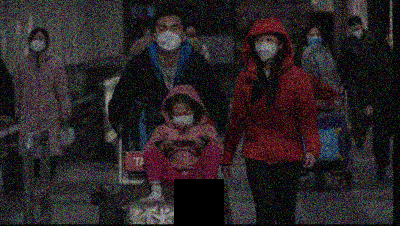with_mask: (155, 22, 185, 52), (254, 34, 280, 61), (169, 107, 195, 125), (30, 34, 48, 52), (350, 25, 364, 40), (305, 31, 322, 43)
